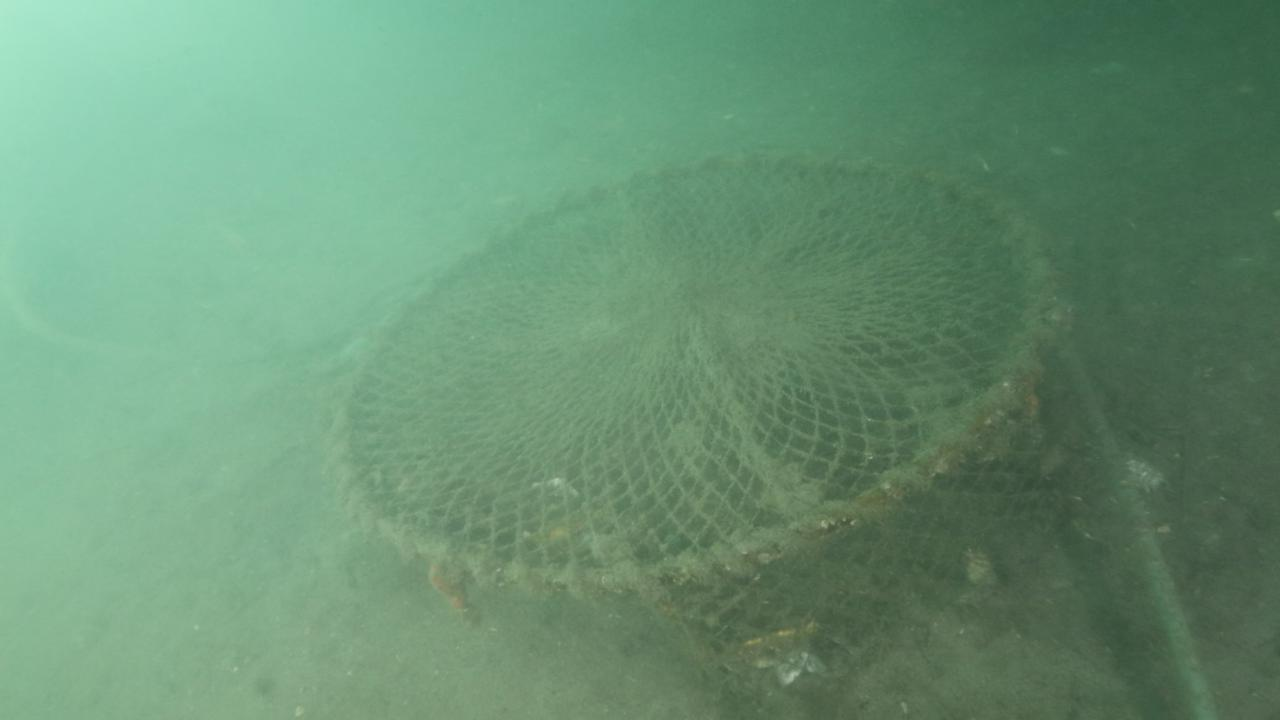circular fish trap: (328, 145, 1059, 673)
